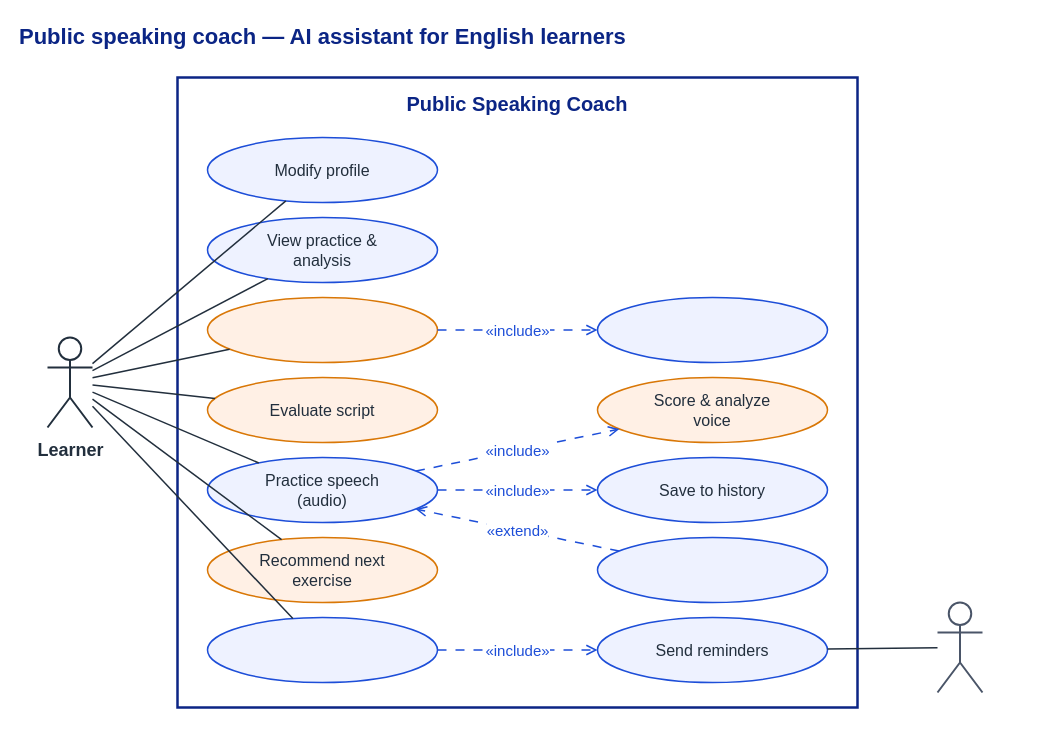
Image size: 1047x744. Some labels were removed from this diagram. The shapes that lost their labels are listed below. From the top down, each one's box as (x1, y1, x2, y2) in pixels, then its label:
(206, 296, 438, 363): Generate script
(596, 296, 828, 363): Extract context (PDF/text)
(596, 536, 828, 603): Request re-recording
(206, 616, 438, 683): Schedule practice
(936, 601, 983, 693): Email / Calendar
